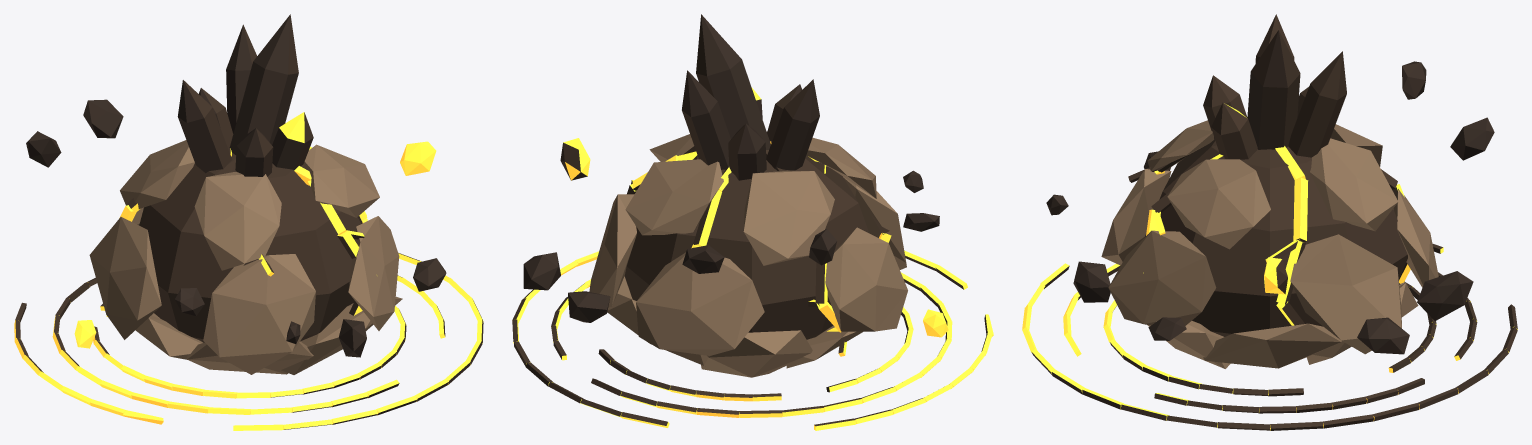
File: fruto-tremor.glb
3 views of the same model, side by side, from view 1: azimuth 30°, elevation 25°; view 2: azimuth 150°, elevation 25°; view 3: azimuth 270°, elevation 25° (orthographic). The views are drawn at different scales.
Parts seen in each view (by area): view 1: Fruit_Body; view 2: Fruit_Body; view 3: Fruit_Body.
Part boxes in pixels (box(x1,y1,x2,y2)): Fruit_Body: box(14, 14, 483, 430); Fruit_Body: box(512, 14, 993, 430); Fruit_Body: box(1022, 14, 1517, 430).
Size of the model in its own units: 2.19 by 1.67 by 2.19.
